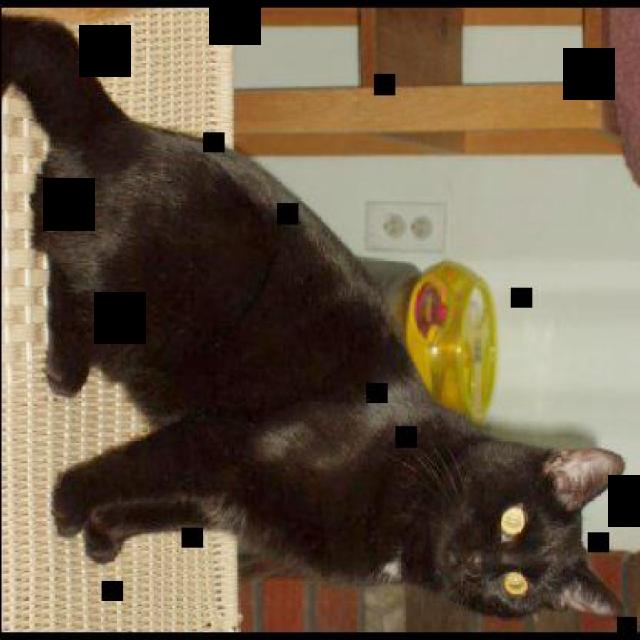unauthorized: (0, 12, 626, 618)
